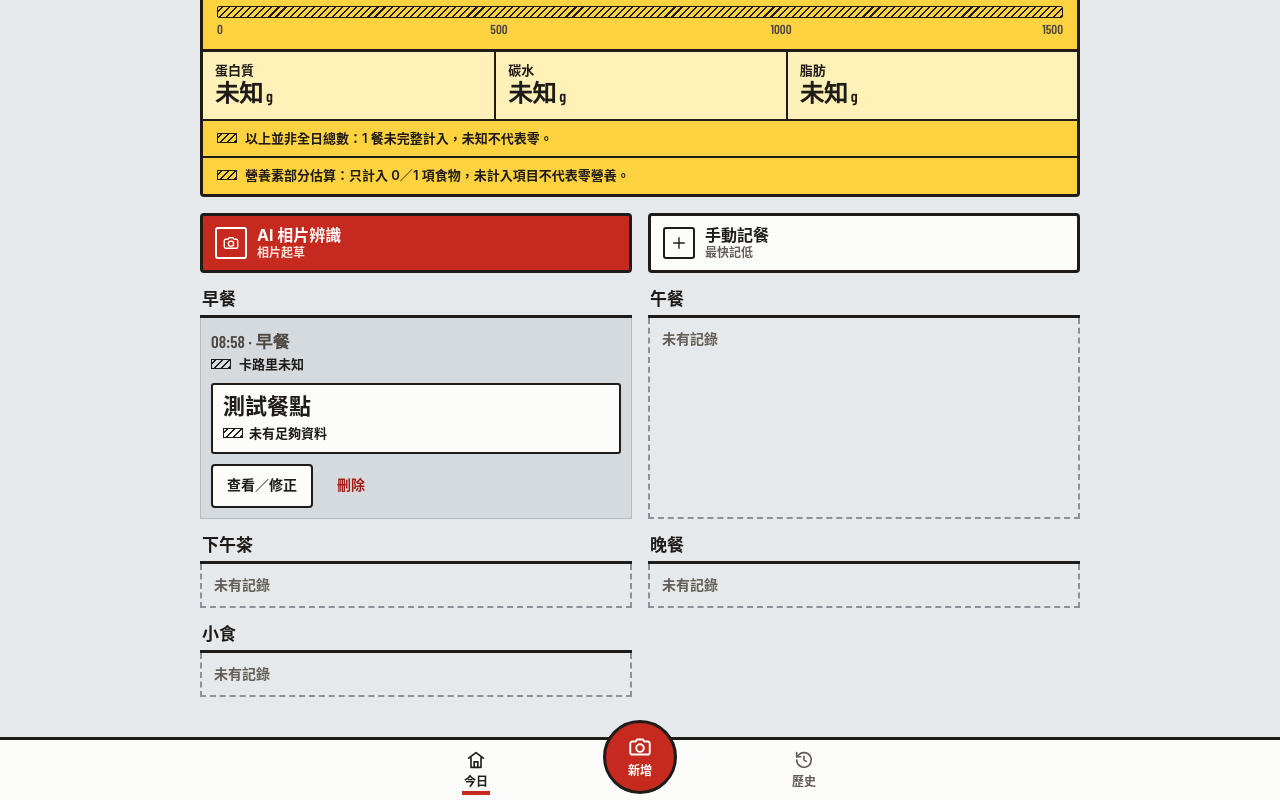
Test case: preserves an operation error when no pending jobs exist
(page scrolled)
What coordinates should you click on to do the following:
click the button "刪除"
I would click on:
 (351, 486)
Its box is x1=321 y1=464 x2=381 y2=508.
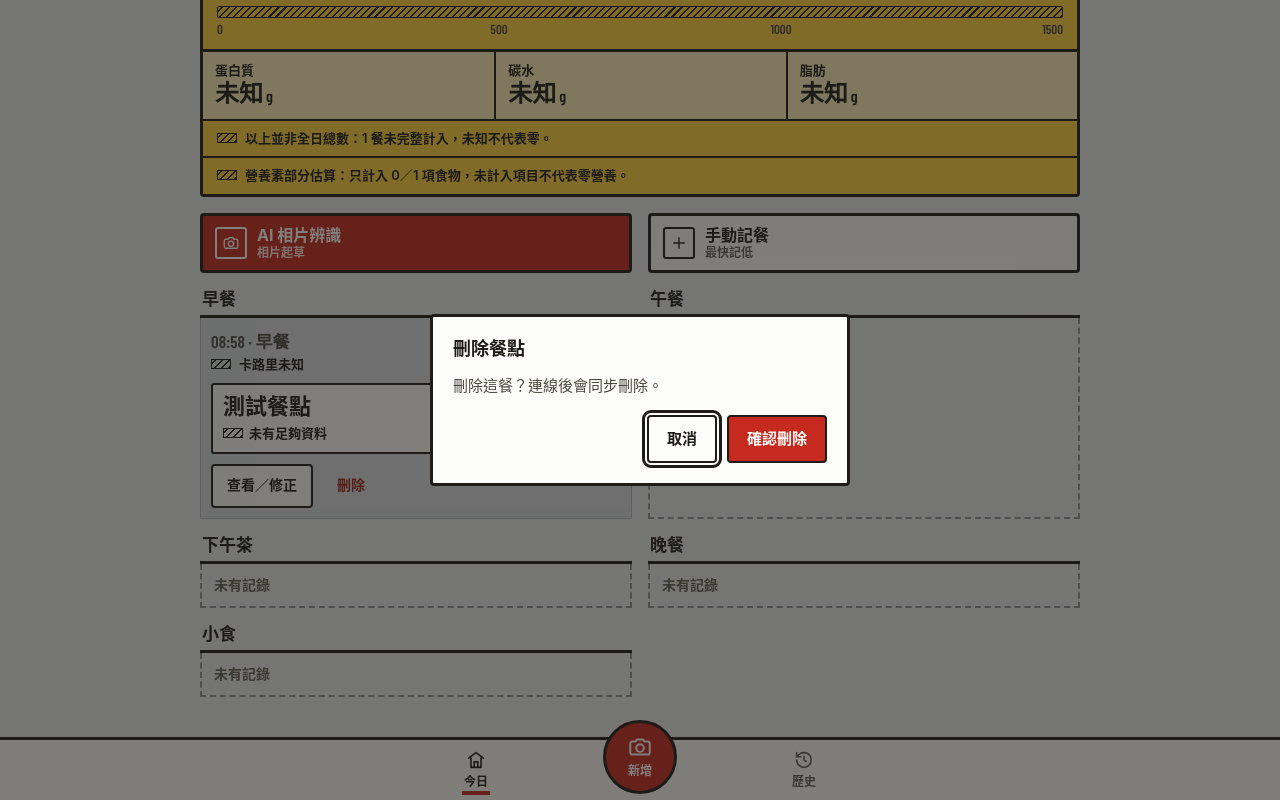
What coordinates should you click on to do the following:
click the button "確認刪除"
I would click on:
 (777, 439)
Its box is x1=727 y1=415 x2=827 y2=463.
(page scrolled)
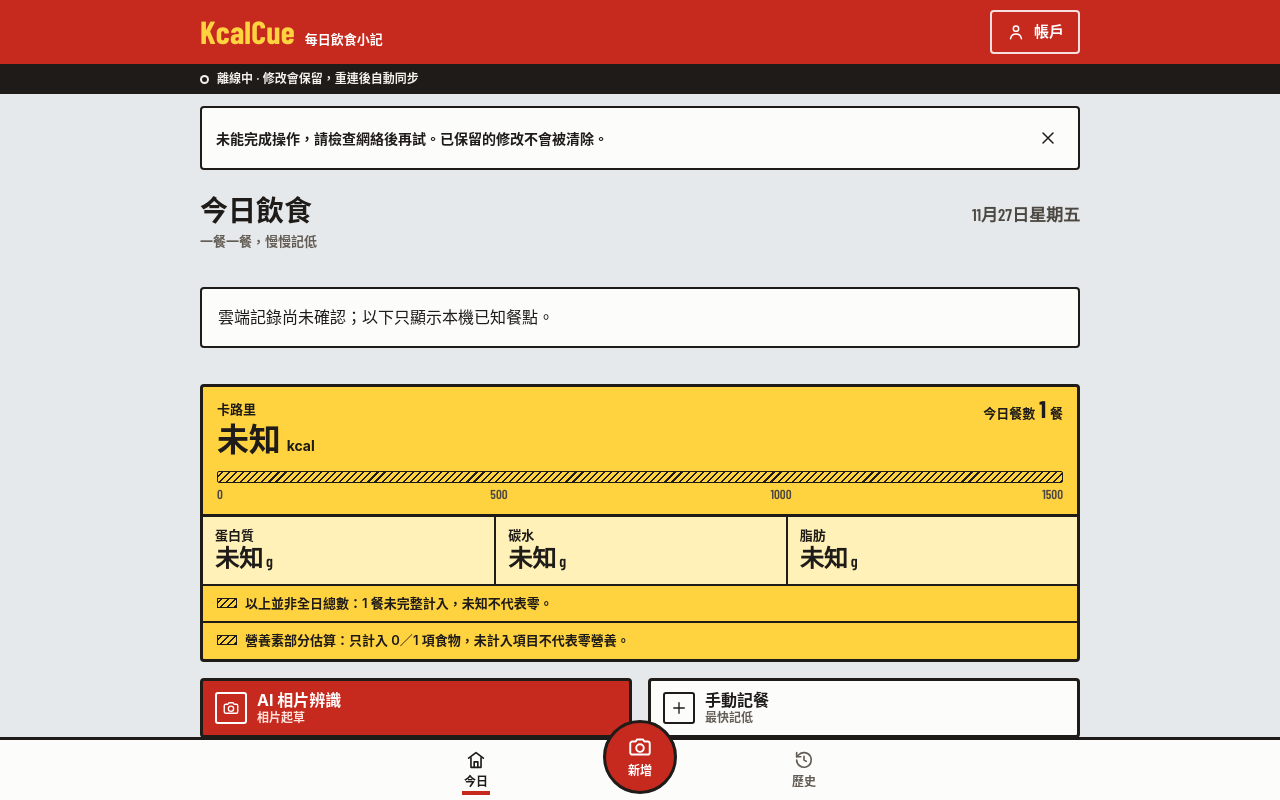
Now the text "未能完成操作，請檢查網絡後再試。已保留的修改不會被清除。" is shown, box x1=216 y1=130 x2=608 y2=146
